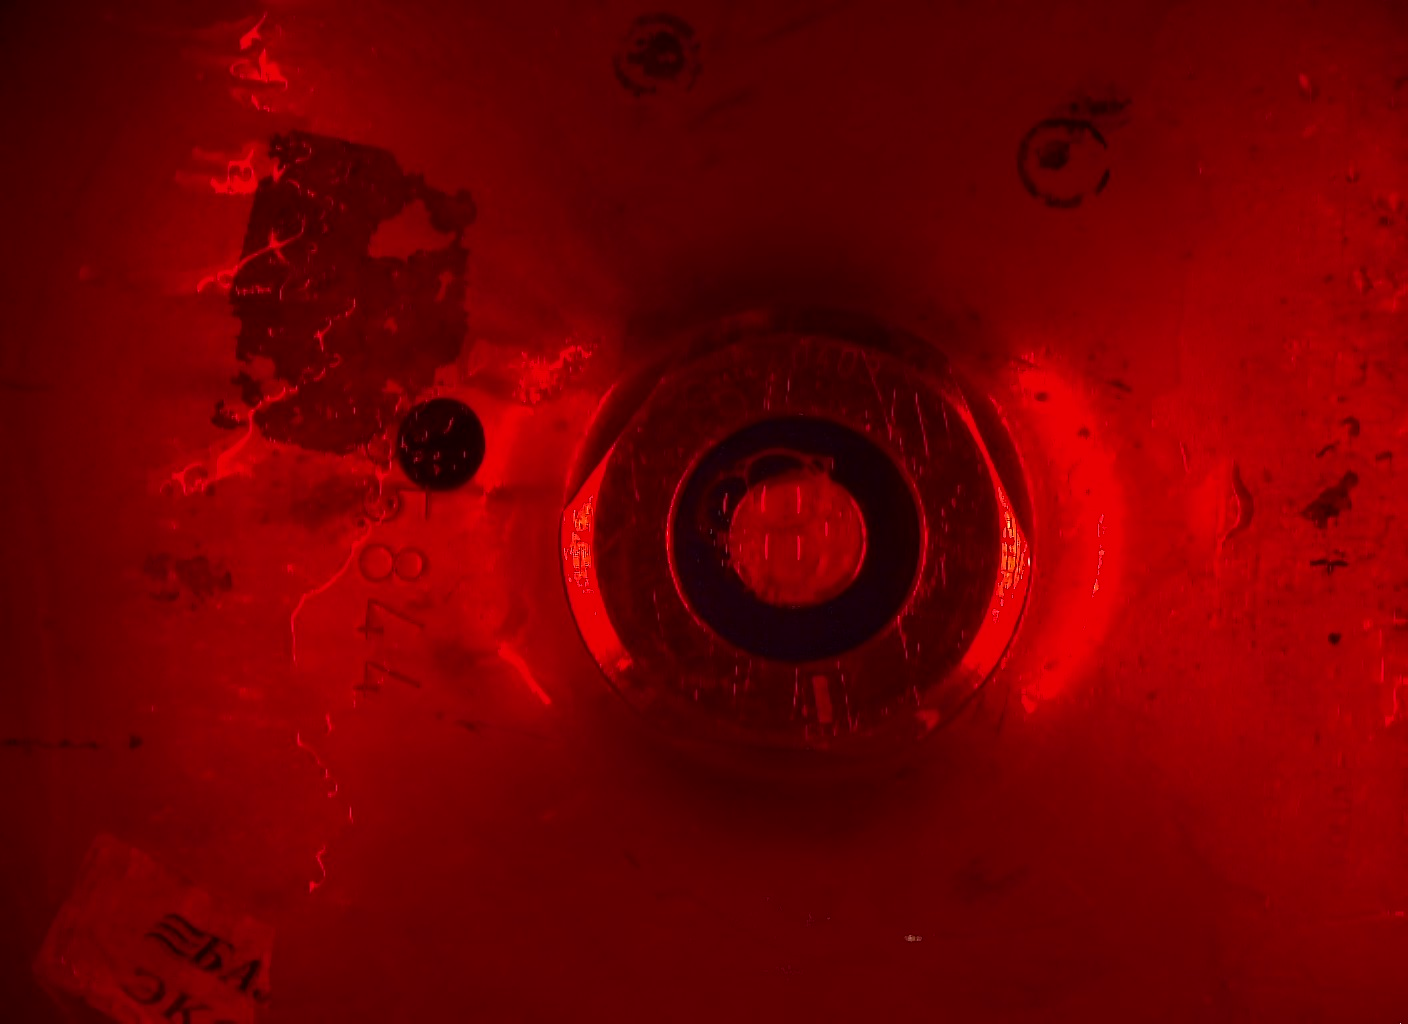pena: (682, 446, 849, 605)
